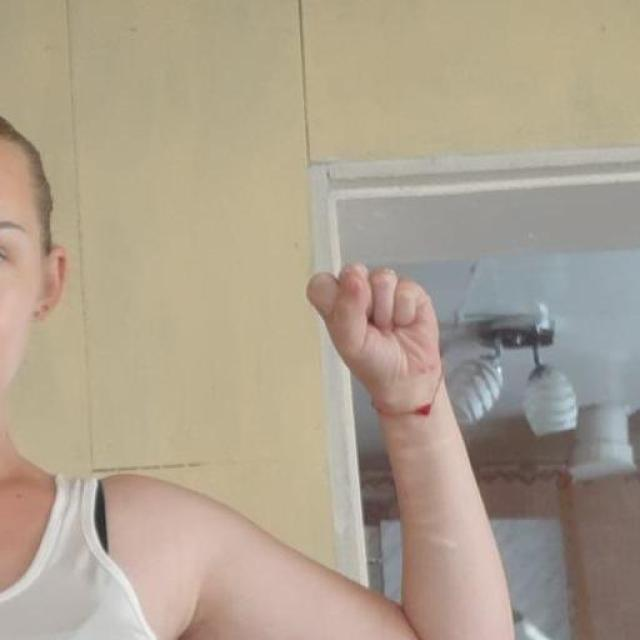hand: (305, 260, 444, 416)
